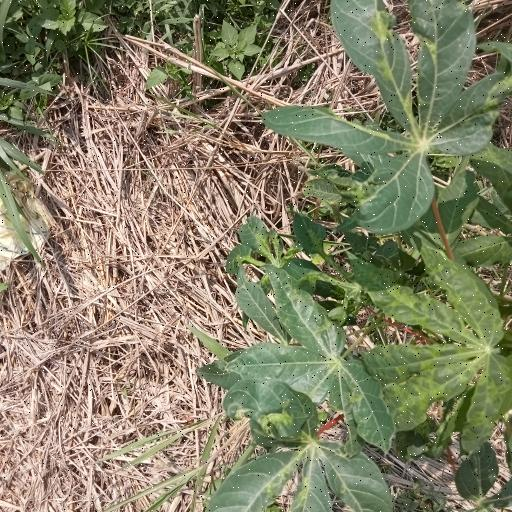Cassava_Mosaic: (286, 4, 511, 227), (361, 243, 512, 445)
